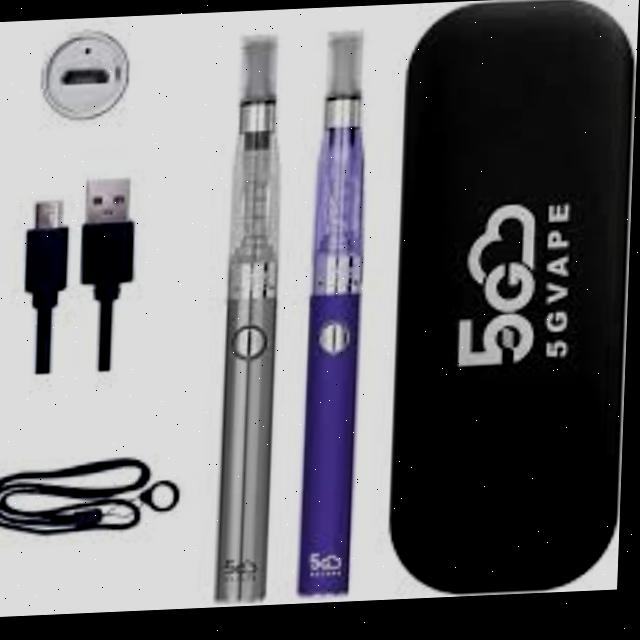vape: (218, 34, 287, 610), (303, 31, 370, 607)
